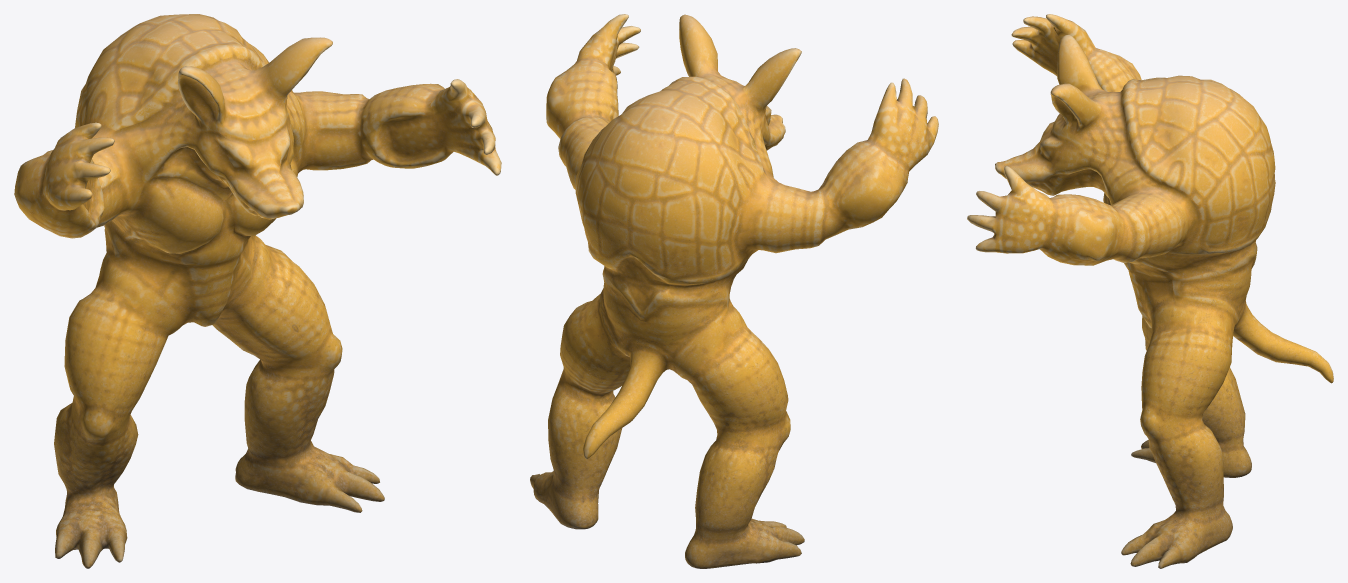
File: armadillo.gltf
3 views of the same model, side by side, from view 1: azimuth 30°, elevation 25°; view 2: azimuth 150°, elevation 25°; view 3: azimuth 270°, elevation 25° (orthographic). The views are drawn at different scales.
Parts seen in each view (by area): view 1: Armadillo_low; view 2: Armadillo_low; view 3: Armadillo_low.
Part boxes in pixels (left/top/right/bottom): Armadillo_low: left=14, top=14, right=501, bottom=568; Armadillo_low: left=530, top=14, right=938, bottom=568; Armadillo_low: left=967, top=14, right=1333, bottom=568.
Size of the model in its own units: 83.71 by 99.79 by 75.77.
1 material, 1 textured.
